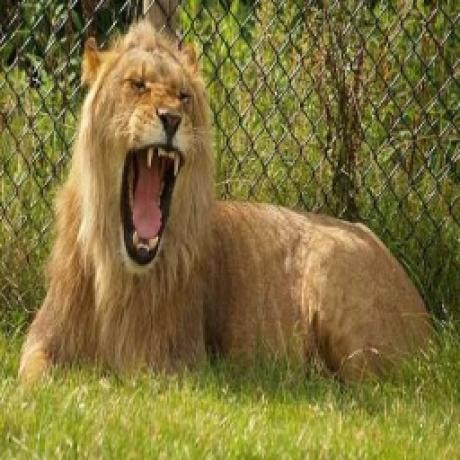Lion: (18, 17, 438, 380)
